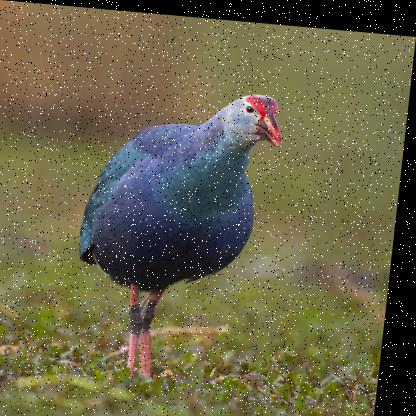Burung: (72, 77, 288, 383)
